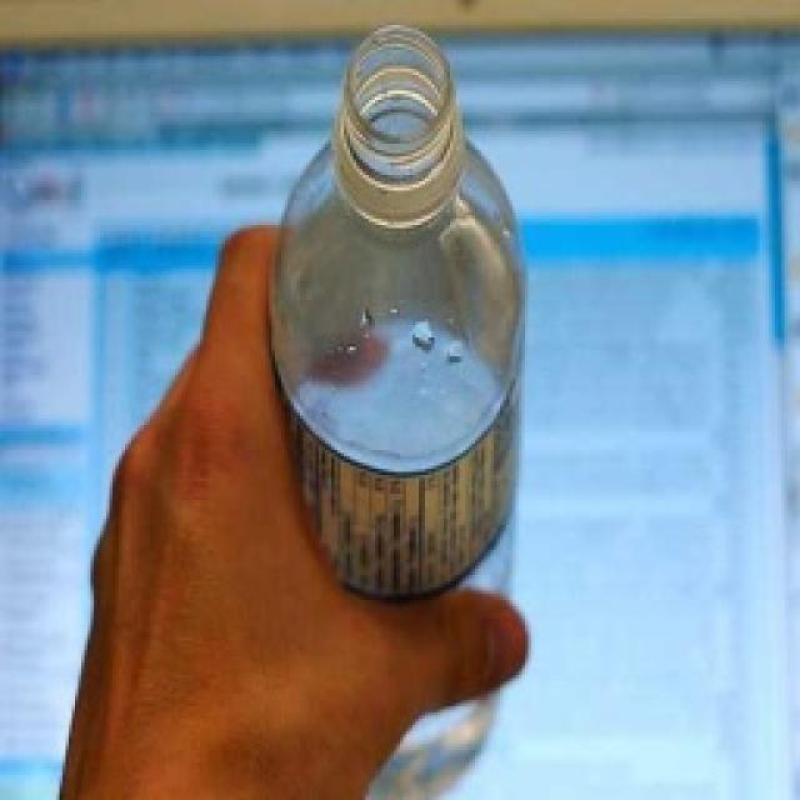botella: (269, 27, 525, 800)
